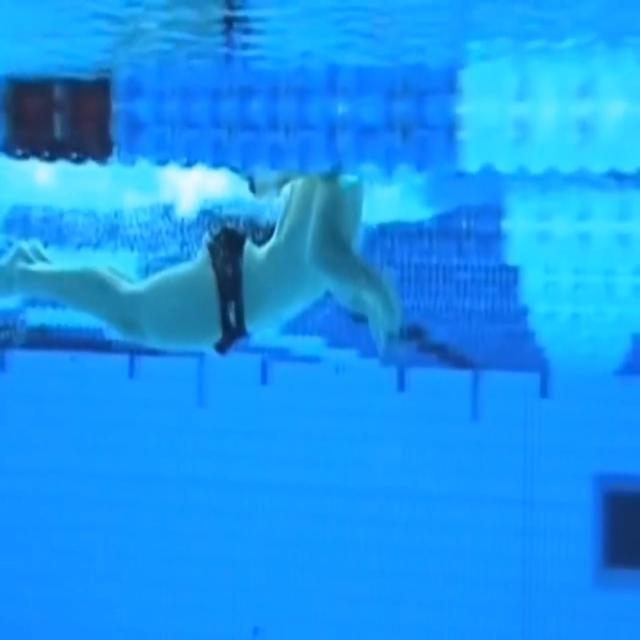Swimming: (2, 170, 400, 356)
